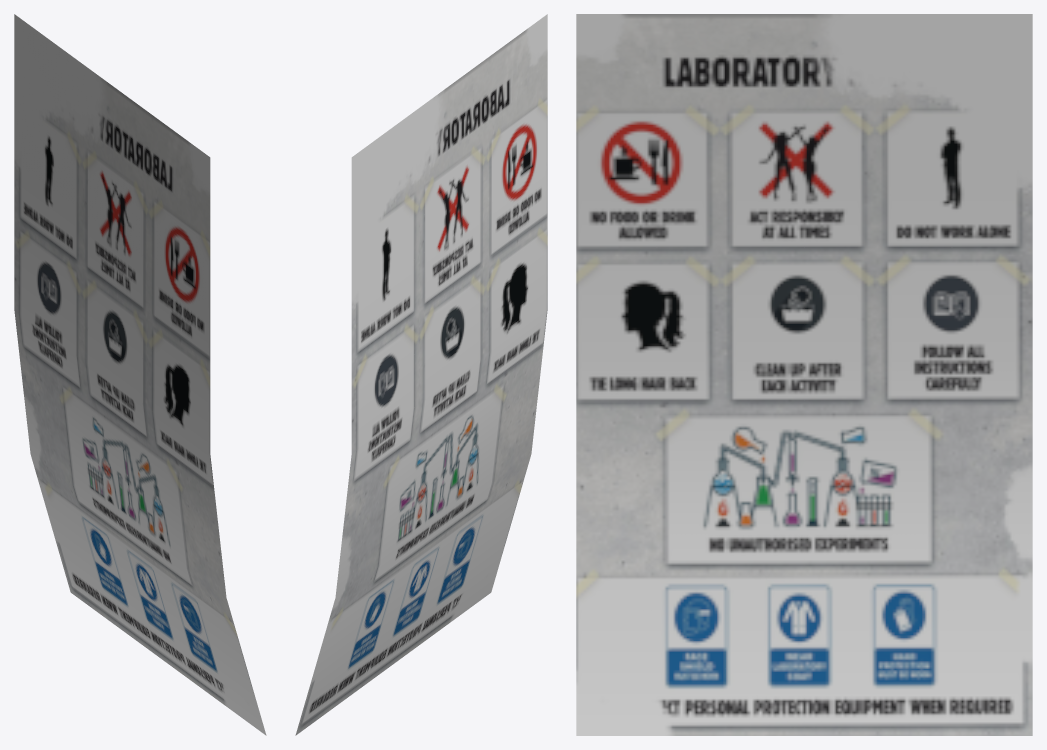
File: SM_Board_Paper_5.fbx
3 renders of one model, left to right at view 1: azimuth 30°, elevation 25°; view 2: azimuth 150°, elevation 25°; view 3: azimuth 270°, elevation 25°, orthographic. The views are drawn at different scales.
Parts seen in each view (by area): view 1: SM_Board_Paper_5_LOD0; view 2: SM_Board_Paper_5_LOD0; view 3: SM_Board_Paper_5_LOD0.
Part boxes in pixels (box(x1,y1,x2,y2)): SM_Board_Paper_5_LOD0: box(14, 14, 266, 735); SM_Board_Paper_5_LOD0: box(295, 14, 547, 735); SM_Board_Paper_5_LOD0: box(576, 14, 1032, 735).
Size of the model in its own units: 5.05 by 30.47 by 50.82.
Materials: 1 (1 with a texture image).
